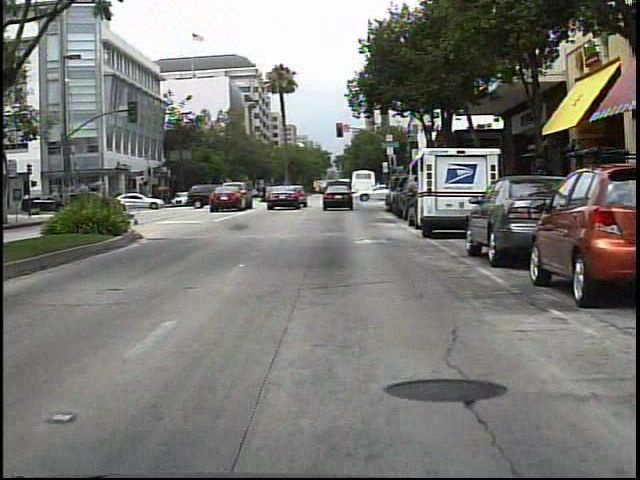person: (523, 149, 554, 237), (265, 182, 266, 206)
